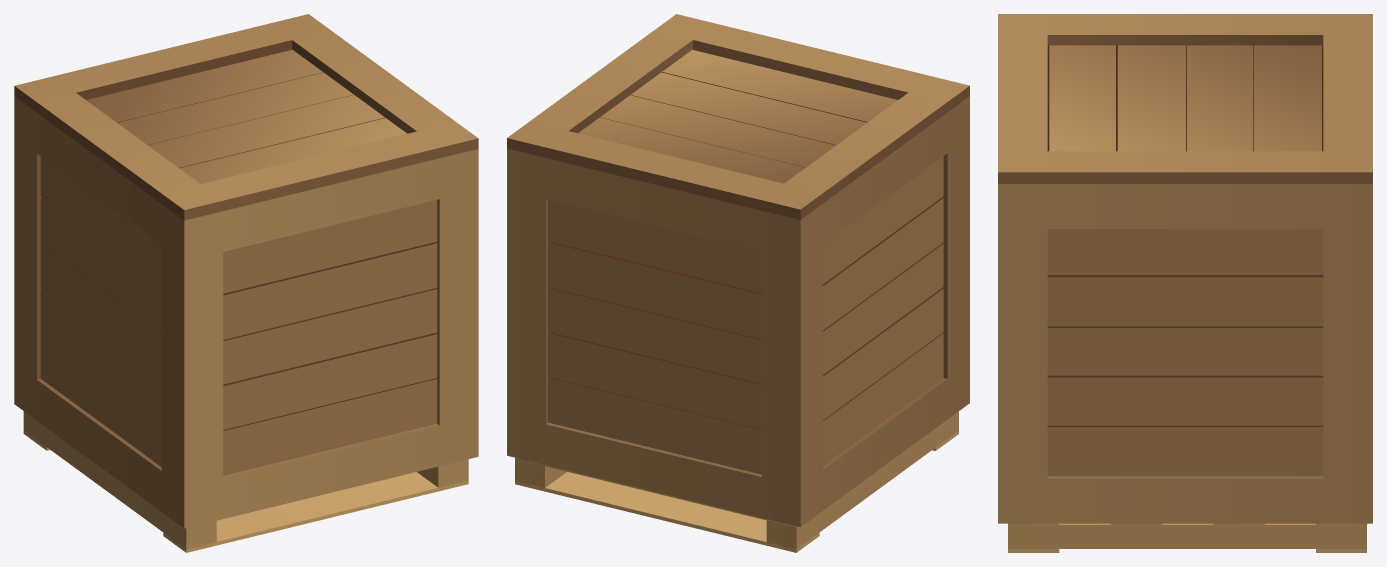
File: Med Shipping Crate #3.fbx
3 renders of one model, left to right at view 1: azimuth 30°, elevation 25°; view 2: azimuth 150°, elevation 25°; view 3: azimuth 270°, elevation 25°, orthographic. The views are drawn at different scales.
Visible parts, largest first — view 1: Med Shipping Crate #3; view 2: Med Shipping Crate #3; view 3: Med Shipping Crate #3.
Boxes of the visible parts, left/top/right/bottom form: Med Shipping Crate #3: left=14, top=14, right=478, bottom=552; Med Shipping Crate #3: left=507, top=14, right=969, bottom=552; Med Shipping Crate #3: left=998, top=14, right=1372, bottom=552.
Size of the model in its own units: 450 by 398 by 398.
1 material, 1 textured.
